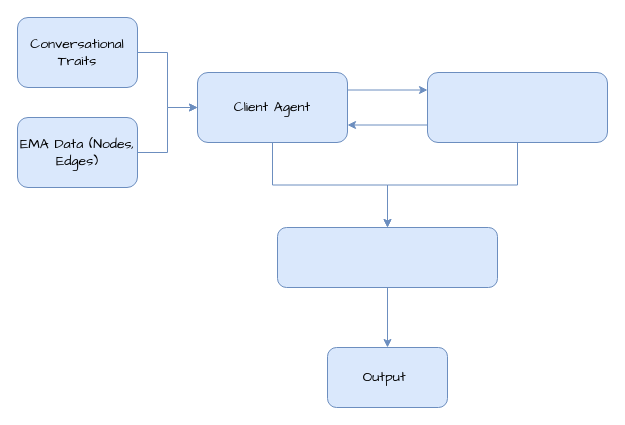
The diagram is 625 pixels wide and 425 high, and some of its shapes have lost their labels. The centre of each missing label's shape, as x and y in pixels:
Conversation Analyst Agent: point 387,257
Response Crafter Agent: point 517,107
